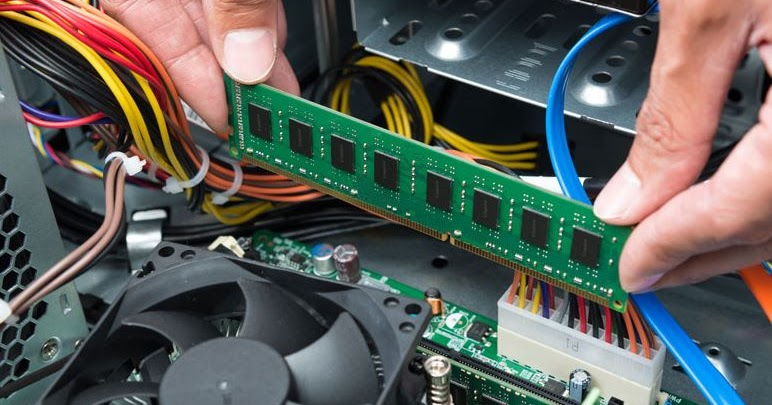ram: (222, 70, 639, 315)
